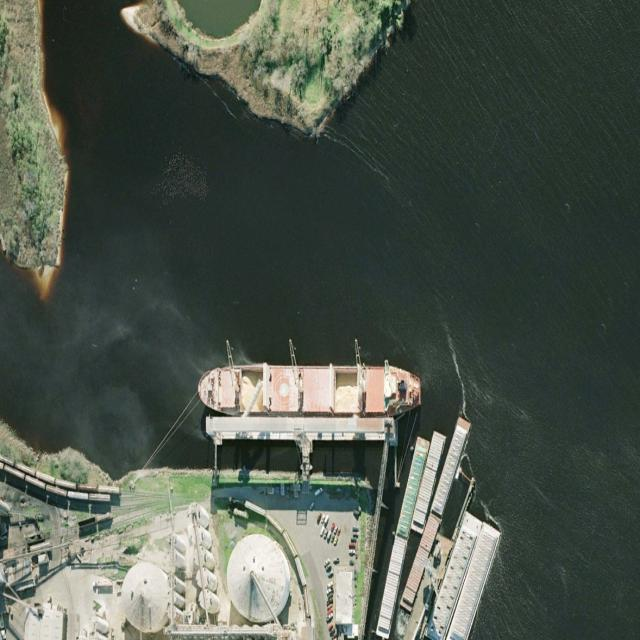Cargo: (197, 362, 422, 415)
